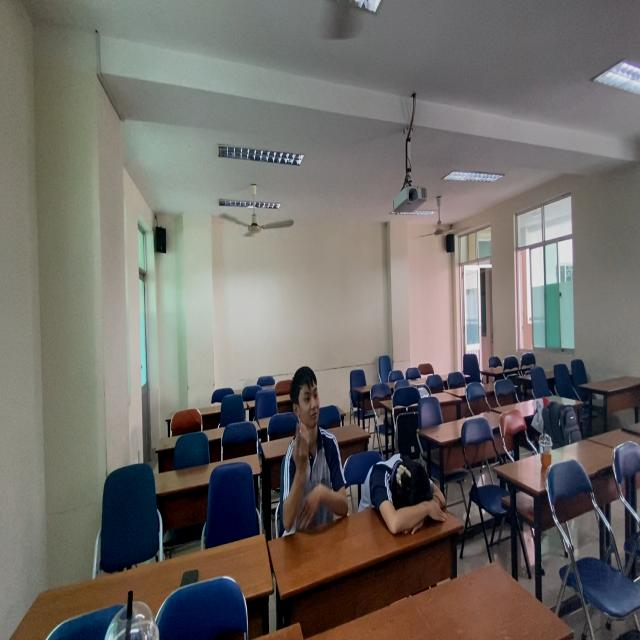sleep: (358, 448, 456, 544)
